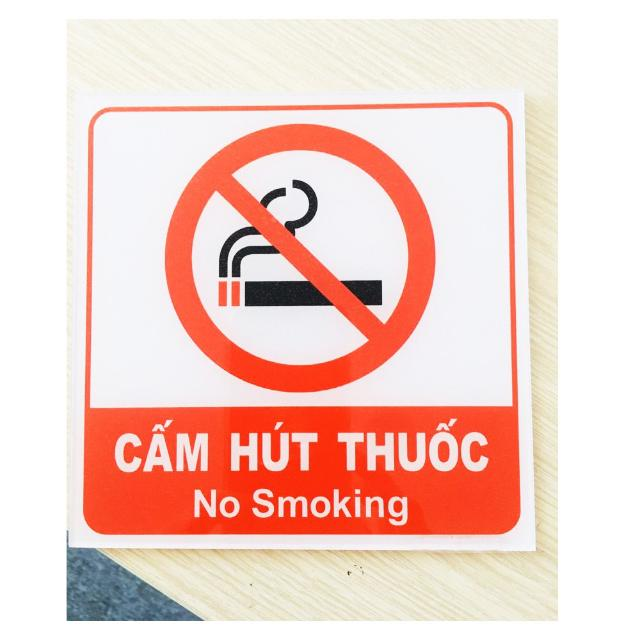cam hut thuoc: (70, 92, 534, 550)
